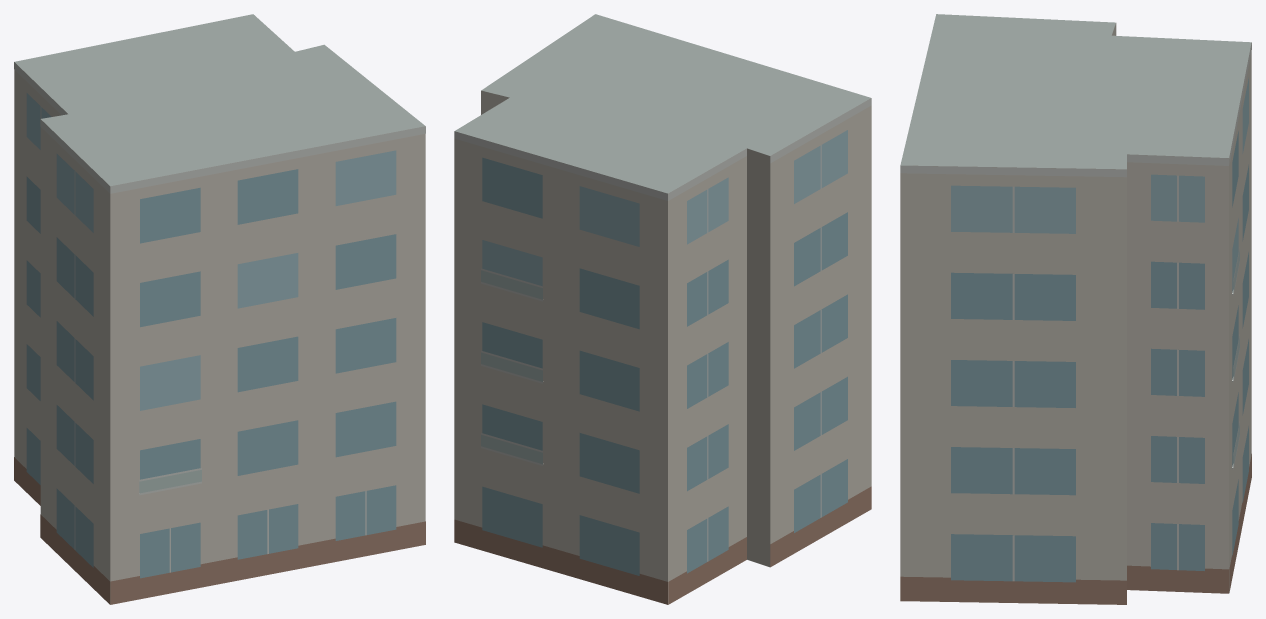
The model's file is survey-upis-32564256.glb.
3 views of the same model, side by side, from view 1: azimuth 30°, elevation 25°; view 2: azimuth 150°, elevation 25°; view 3: azimuth 270°, elevation 25° (orthographic). The views are drawn at different scales.
Visible parts, largest first — view 1: survey-upis-32564256.tmp; view 2: survey-upis-32564256.tmp; view 3: survey-upis-32564256.tmp.
Boxes of the visible parts, x1,y1,x2,y2 form: survey-upis-32564256.tmp: (14, 14, 425, 604); survey-upis-32564256.tmp: (454, 14, 871, 604); survey-upis-32564256.tmp: (900, 14, 1251, 604).
Size of the model in its own units: 10.29 by 13.45 by 9.84.
